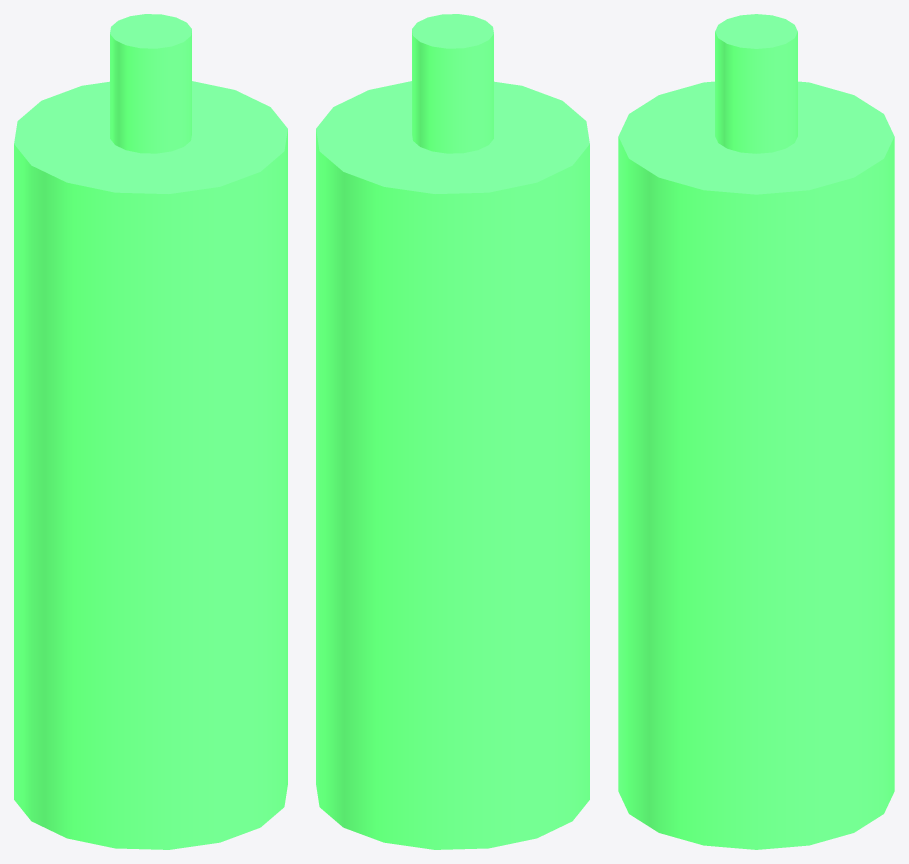
File: green_candles_cell.glb
The picture shows the model from 3 angles, left to right: view 1: azimuth 30°, elevation 25°; view 2: azimuth 150°, elevation 25°; view 3: azimuth 270°, elevation 25°; orthographic projection.
Parts seen in each view (by area): view 1: FuelCell; view 2: FuelCell; view 3: FuelCell.
Boxes of the visible parts, x1,y1,x2,y2 form: FuelCell: [14, 14, 287, 849]; FuelCell: [316, 14, 589, 849]; FuelCell: [618, 14, 894, 849].
Bounding box in the file's own units: 0.084 × 0.2552 × 0.084.
